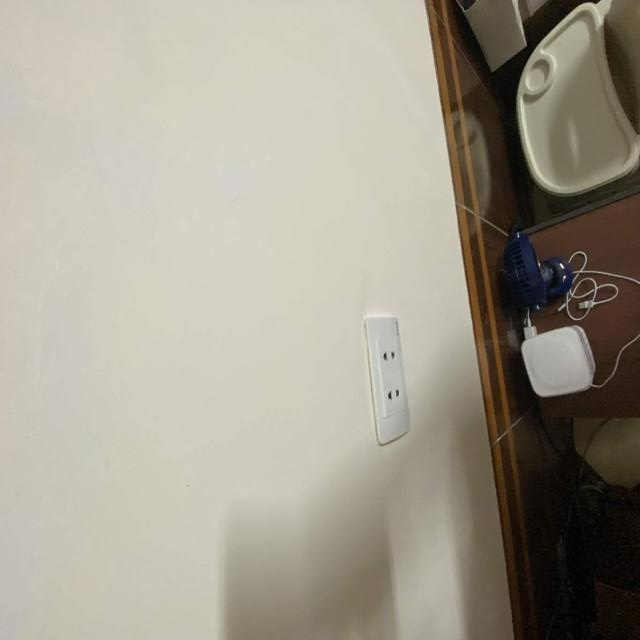outlet: (363, 316, 411, 446)
